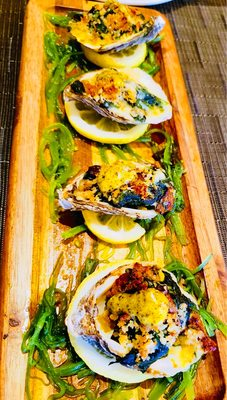curry: (0, 0, 227, 300)
sandwich: (23, 3, 212, 392)
